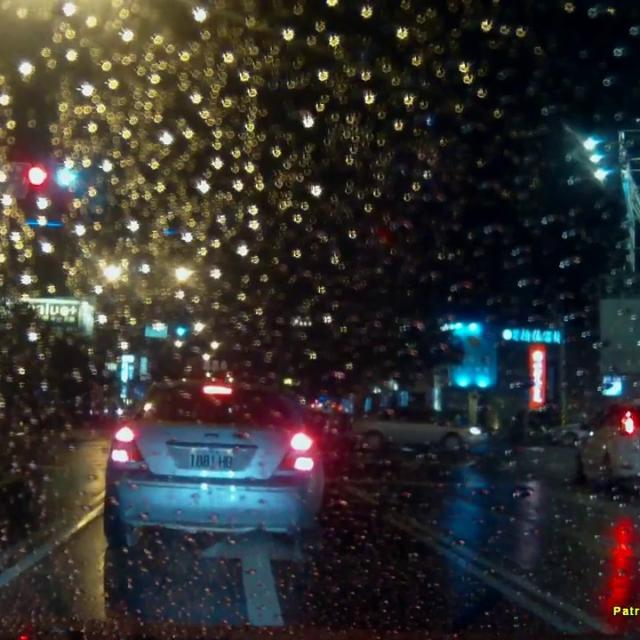Car: (100, 376, 321, 546), (347, 402, 495, 453), (570, 398, 639, 492)
